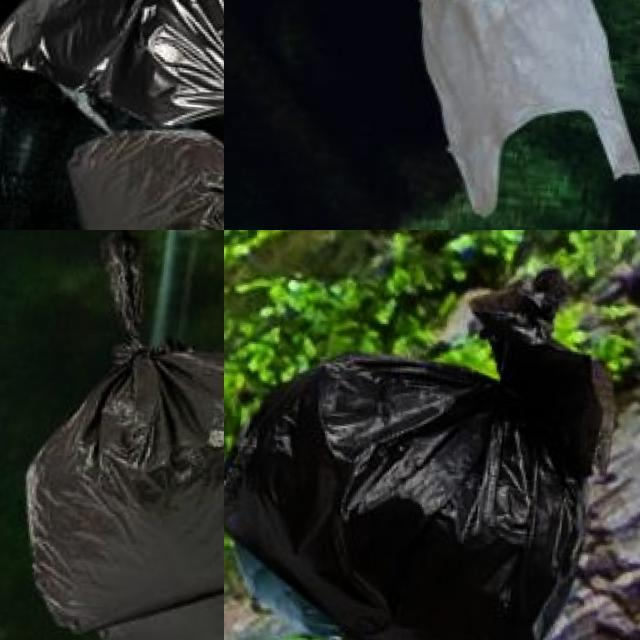waste: (224, 292, 606, 640), (6, 230, 224, 640), (386, 0, 640, 222), (0, 0, 224, 118), (46, 122, 224, 230)
